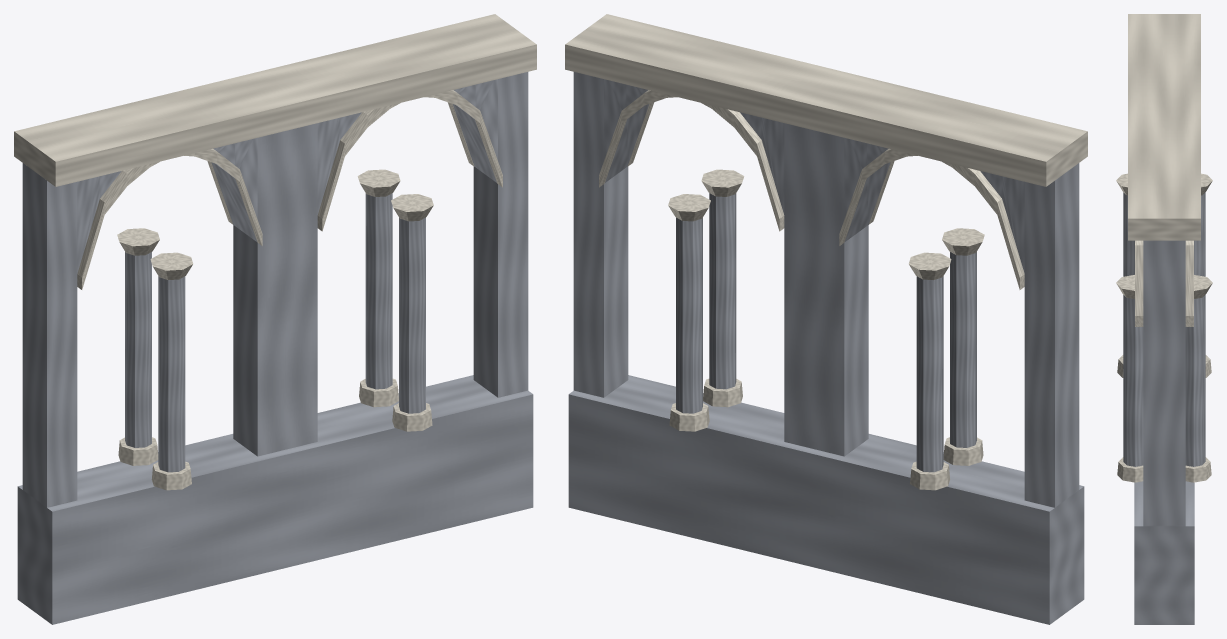
File: vampire-crypt-and-gothic-cathedral-cloister-arcade-7d7c1f69__22969.glb
The picture shows the model from 3 angles, left to right: view 1: azimuth 30°, elevation 25°; view 2: azimuth 150°, elevation 25°; view 3: azimuth 270°, elevation 25°; orthographic projection. The views are drawn at different scales.
Parts seen in each view (by area): view 1: cloister-arcade; view 2: cloister-arcade; view 3: cloister-arcade.
Part boxes in pixels (box(x1,y1,x2,y2)): cloister-arcade: box(14, 14, 536, 624); cloister-arcade: box(565, 14, 1087, 624); cloister-arcade: box(1116, 14, 1212, 624).
Size of the model in its own units: 4 by 3.7 by 0.7998.
Materials: 2 (2 with a texture image).
